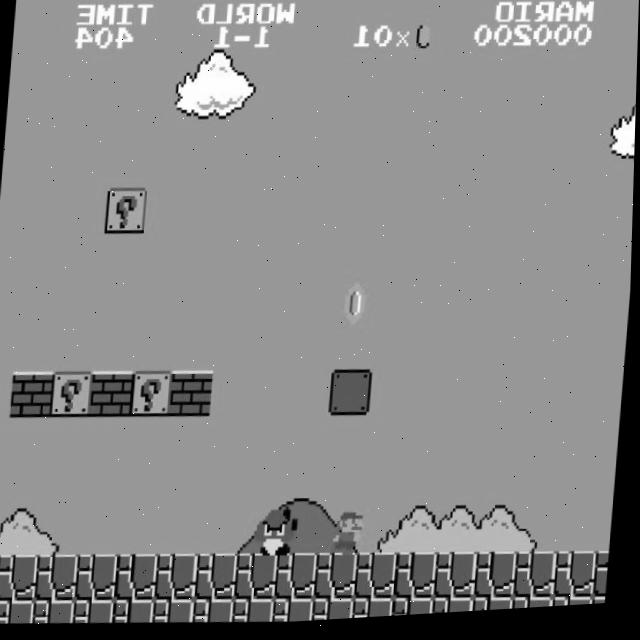1- brick_block: (172, 371, 216, 421), (92, 371, 136, 421), (12, 370, 56, 420)
11- little_mario: (328, 509, 375, 562)
13- mystery_block: (132, 371, 176, 421), (52, 370, 96, 420), (105, 188, 149, 237)
17- undestructible_block: (556, 556, 600, 606), (517, 556, 561, 606), (477, 556, 521, 606), (437, 556, 481, 606), (397, 556, 441, 606), (357, 555, 401, 605), (317, 555, 361, 605), (277, 555, 321, 605), (237, 555, 281, 605), (197, 555, 241, 605), (158, 554, 202, 604), (118, 554, 162, 604), (78, 554, 122, 604), (38, 554, 82, 604), (0, 553, 42, 603), (236, 600, 278, 627), (196, 600, 238, 627), (156, 600, 198, 627), (116, 599, 158, 626), (76, 599, 118, 626), (36, 599, 78, 626), (275, 601, 318, 626), (315, 601, 358, 625), (0, 599, 38, 626), (355, 601, 398, 623), (395, 601, 438, 621), (596, 558, 612, 606), (435, 601, 477, 619), (475, 601, 517, 617), (515, 601, 557, 615), (555, 601, 597, 613), (595, 603, 609, 612), (0, 553, 2, 601)
3- empty_block: (331, 372, 375, 422)
8- goomba: (256, 509, 303, 562)
